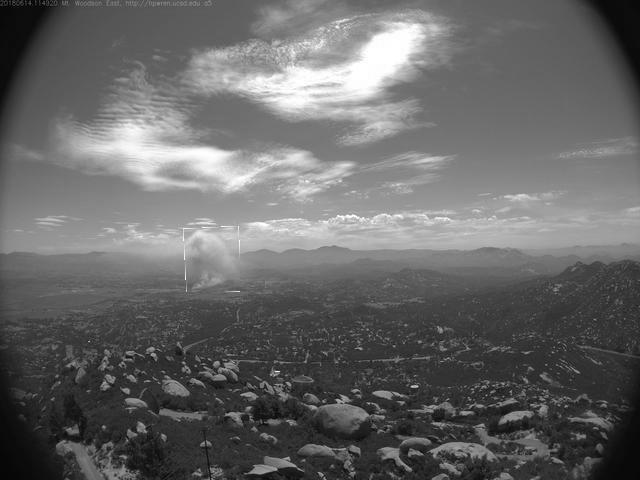smoke: (185, 228, 242, 294)
